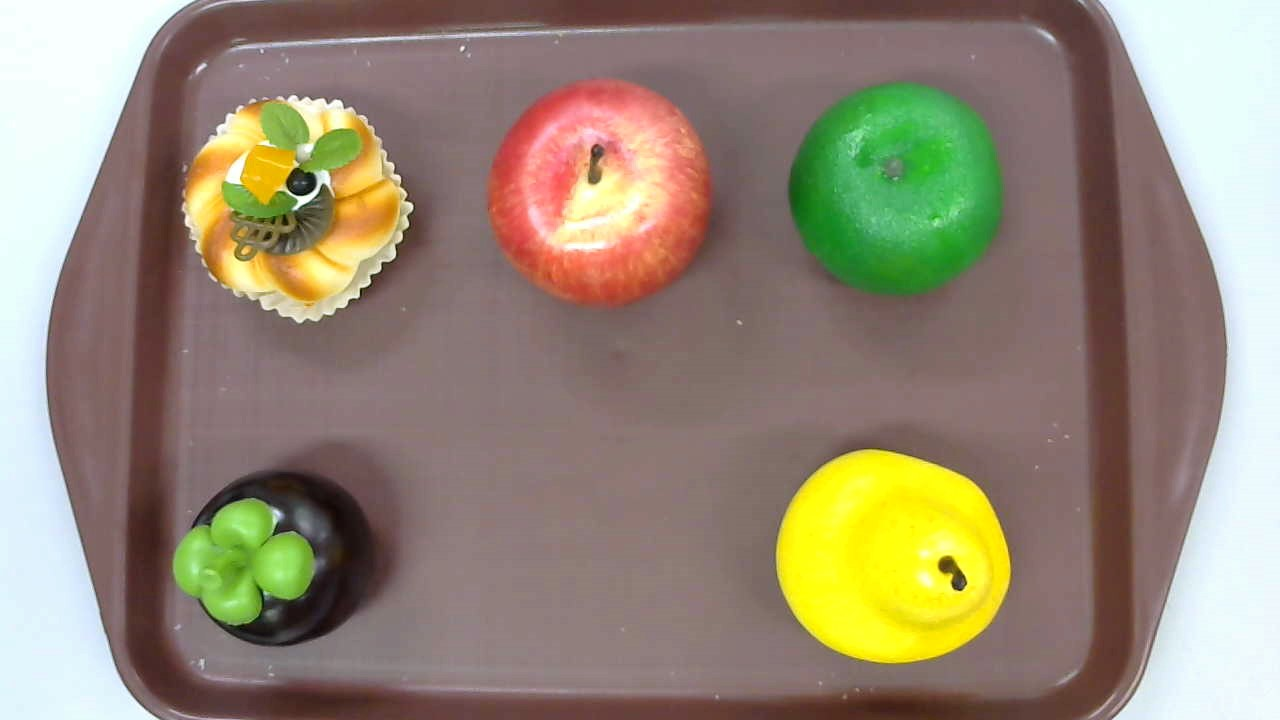fruit tower: (181, 95, 414, 326)
green orange: (789, 81, 1001, 294)
mangosteen: (172, 470, 376, 647)
red apple: (485, 76, 713, 309)
yellow pear: (775, 447, 1010, 663)
